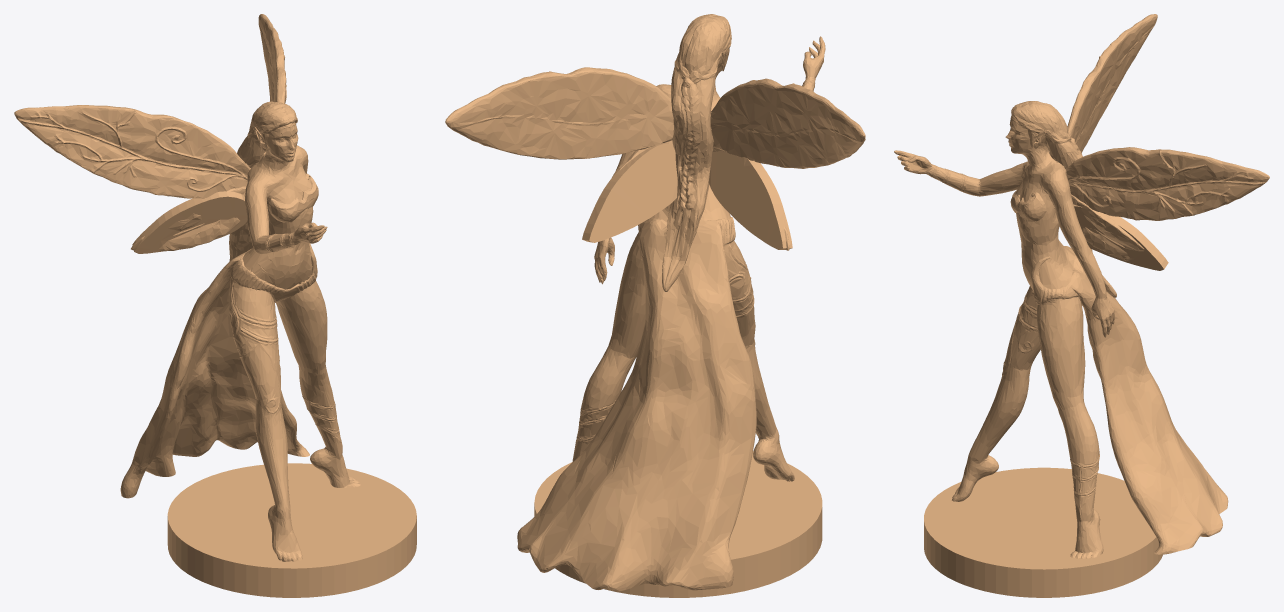
Rendered from dancingElf.fbx.
The picture shows the model from 3 angles, left to right: view 1: azimuth 30°, elevation 25°; view 2: azimuth 150°, elevation 25°; view 3: azimuth 270°, elevation 25°; orthographic projection. The views are drawn at different scales.
Parts seen in each view (by area): view 1: Dancing Elf; view 2: Dancing Elf; view 3: Dancing Elf.
Part boxes in pixels (left/top/right/bottom): Dancing Elf: left=14, top=14, right=416, bottom=597; Dancing Elf: left=445, top=14, right=865, bottom=597; Dancing Elf: left=894, top=14, right=1269, bottom=597.
Size of the model in its own units: 3490 by 4590 by 3589.
